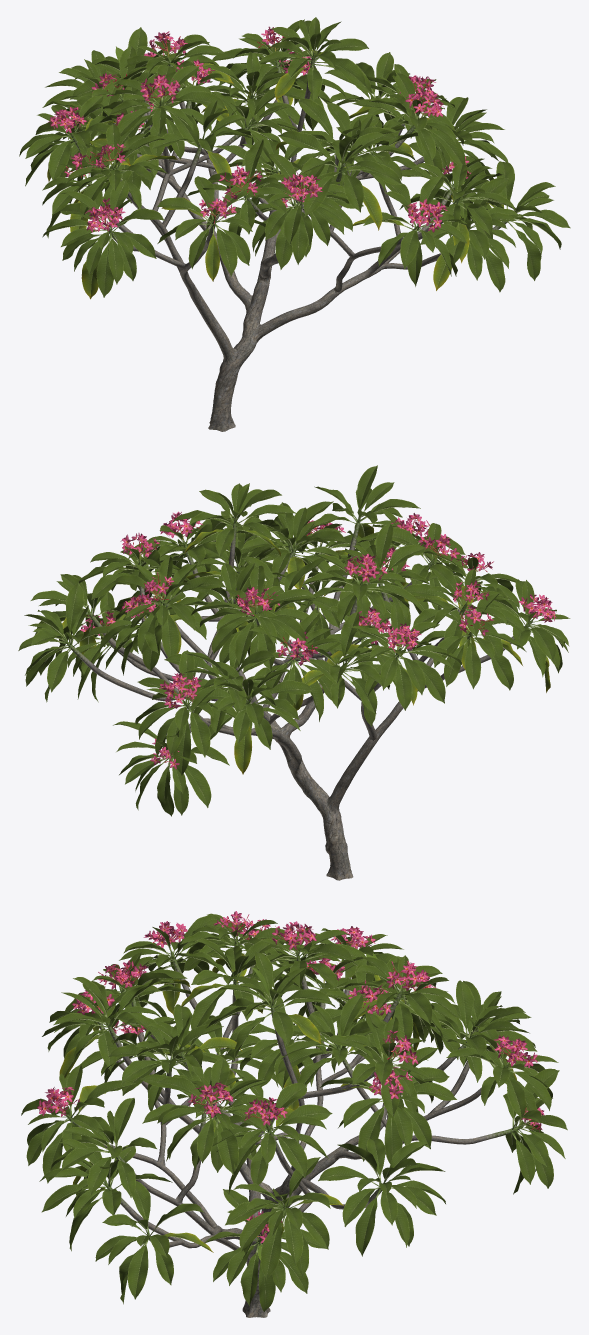
File: plumeria_tree.glb
3 views of the same model, one above another, from view 1: azimuth 30°, elevation 25°; view 2: azimuth 150°, elevation 25°; view 3: azimuth 270°, elevation 25° (orthographic). The views are drawn at different scales.
Visible parts, largest first — view 1: Plumeria_rubra_pink_HD_Plumeria rub leaf 01_0, Plumeria_rubra_pink_HD_Plumeria bark_0, Plumeria_rubra_pink_HD_Plumeria petal_0, Plumeria_rubra_pink_HD_Plumeria rub leaf 01 F1_0, Plumeria_rubra_pink_HD_Plumeria leaf stalk_0, Plumeria_rubra_pink_HD_Material_0, Plumeria_rubra_pink_HD_Flower stalk 01_0; view 2: Plumeria_rubra_pink_HD_Plumeria rub leaf 01_0, Plumeria_rubra_pink_HD_Plumeria bark_0, Plumeria_rubra_pink_HD_Plumeria petal_0, Plumeria_rubra_pink_HD_Plumeria leaf stalk_0, Plumeria_rubra_pink_HD_Plumeria rub leaf 01 F1_0, Plumeria_rubra_pink_HD_Material_0, Plumeria_rubra_pink_HD_Flower stalk 01_0; view 3: Plumeria_rubra_pink_HD_Plumeria rub leaf 01_0, Plumeria_rubra_pink_HD_Plumeria bark_0, Plumeria_rubra_pink_HD_Plumeria petal_0, Plumeria_rubra_pink_HD_Plumeria leaf stalk_0, Plumeria_rubra_pink_HD_Plumeria rub leaf 01 F1_0, Plumeria_rubra_pink_HD_Material_0, Plumeria_rubra_pink_HD_Flower stalk 01_0.
Boxes of the visible parts, x1,y1,x2,y2 form: Plumeria_rubra_pink_HD_Plumeria rub leaf 01_0: [19, 17, 570, 297]; Plumeria_rubra_pink_HD_Plumeria bark_0: [115, 90, 440, 431]; Plumeria_rubra_pink_HD_Plumeria petal_0: [47, 26, 470, 232]; Plumeria_rubra_pink_HD_Plumeria rub leaf 01 F1_0: [47, 50, 503, 299]; Plumeria_rubra_pink_HD_Plumeria leaf stalk_0: [33, 37, 554, 296]; Plumeria_rubra_pink_HD_Material_0: [70, 55, 507, 246]; Plumeria_rubra_pink_HD_Flower stalk 01_0: [59, 35, 469, 223]; Plumeria_rubra_pink_HD_Plumeria rub leaf 01_0: [18, 465, 570, 816]; Plumeria_rubra_pink_HD_Plumeria bark_0: [93, 559, 490, 880]; Plumeria_rubra_pink_HD_Plumeria petal_0: [80, 511, 556, 769]; Plumeria_rubra_pink_HD_Plumeria leaf stalk_0: [28, 491, 563, 798]; Plumeria_rubra_pink_HD_Plumeria rub leaf 01 F1_0: [62, 522, 550, 774]; Plumeria_rubra_pink_HD_Material_0: [64, 518, 532, 758]; Plumeria_rubra_pink_HD_Flower stalk 01_0: [82, 521, 543, 762]; Plumeria_rubra_pink_HD_Plumeria rub leaf 01_0: [21, 913, 567, 1311]; Plumeria_rubra_pink_HD_Plumeria bark_0: [103, 994, 476, 1317]; Plumeria_rubra_pink_HD_Plumeria petal_0: [37, 911, 544, 1243]; Plumeria_rubra_pink_HD_Plumeria leaf stalk_0: [35, 919, 562, 1294]; Plumeria_rubra_pink_HD_Plumeria rub leaf 01 F1_0: [59, 953, 517, 1263]; Plumeria_rubra_pink_HD_Material_0: [66, 939, 522, 1254]; Plumeria_rubra_pink_HD_Flower stalk 01_0: [48, 911, 540, 1241].
Size of the model in its own units: 3.89 by 2.77 by 3.54.
Materials: 9 (9 with a texture image).
